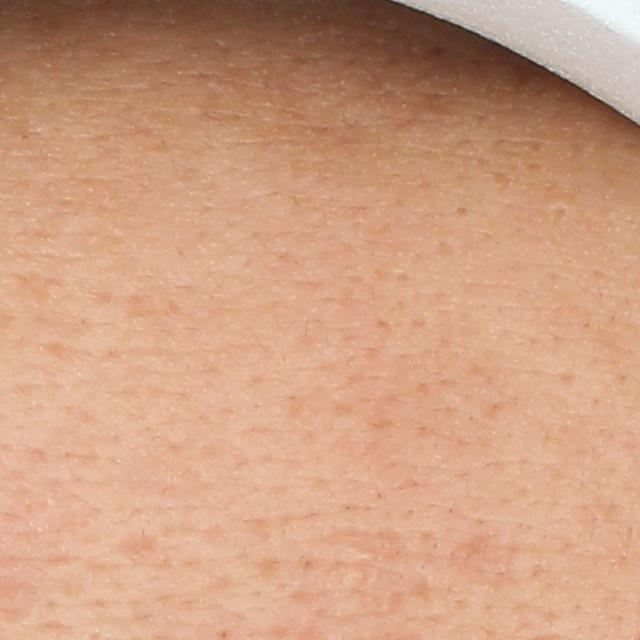atrophic_scar: (116, 526, 149, 562)
